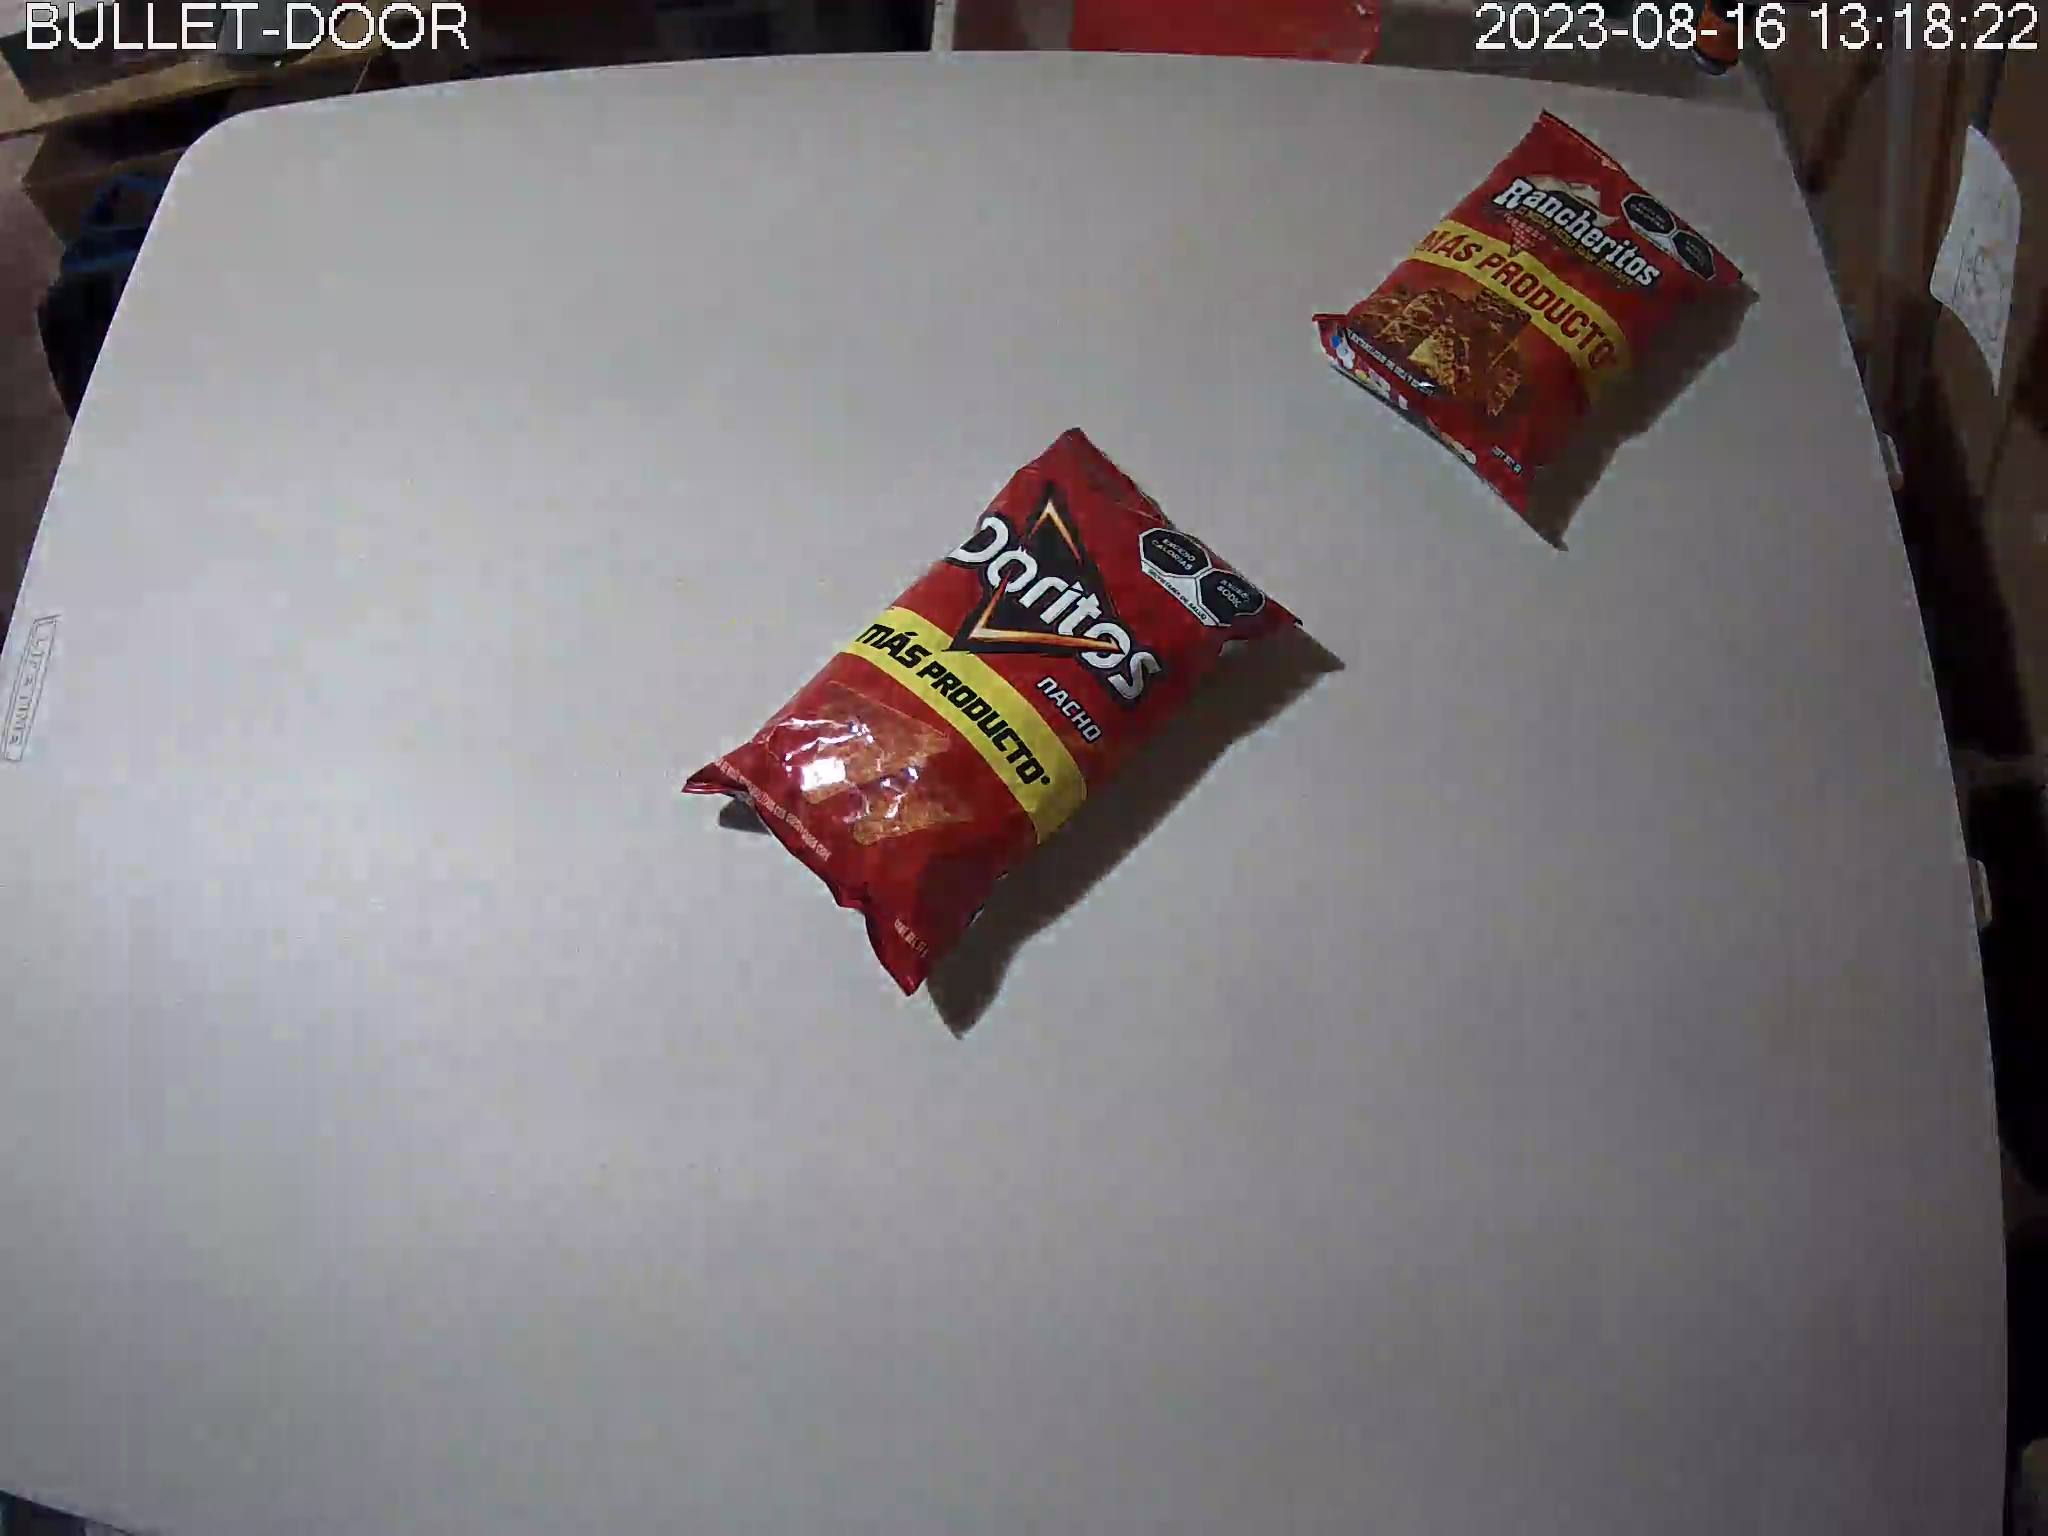DoritosN_61_F: (681, 426, 1306, 999)
Rancheritos_58_F: (1314, 110, 1745, 516)
